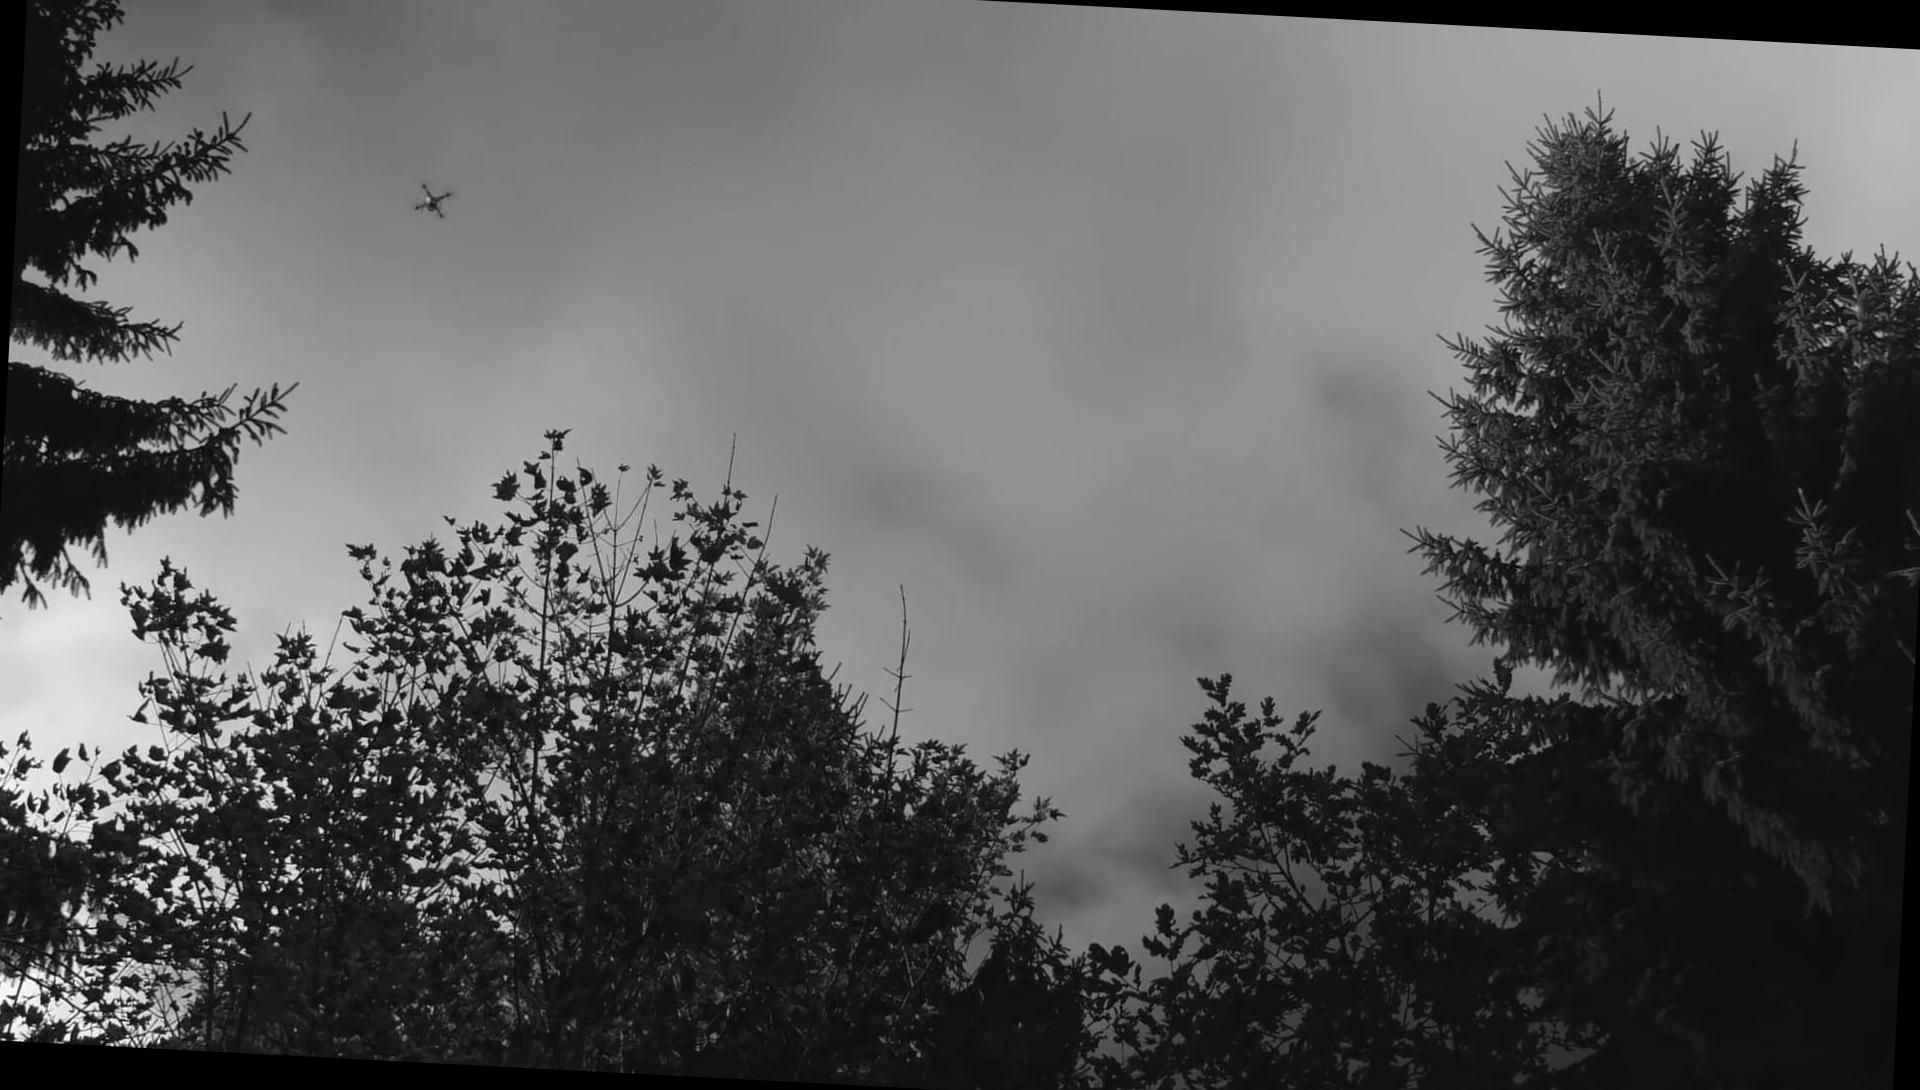drone: (410, 181, 452, 221)
